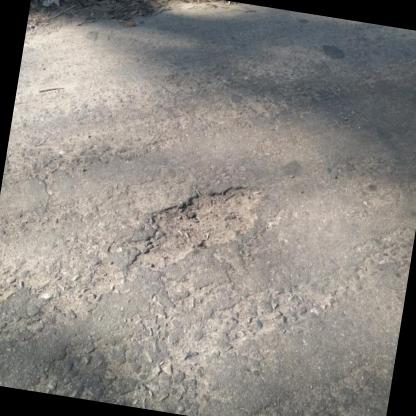pothole: (126, 166, 267, 286)
